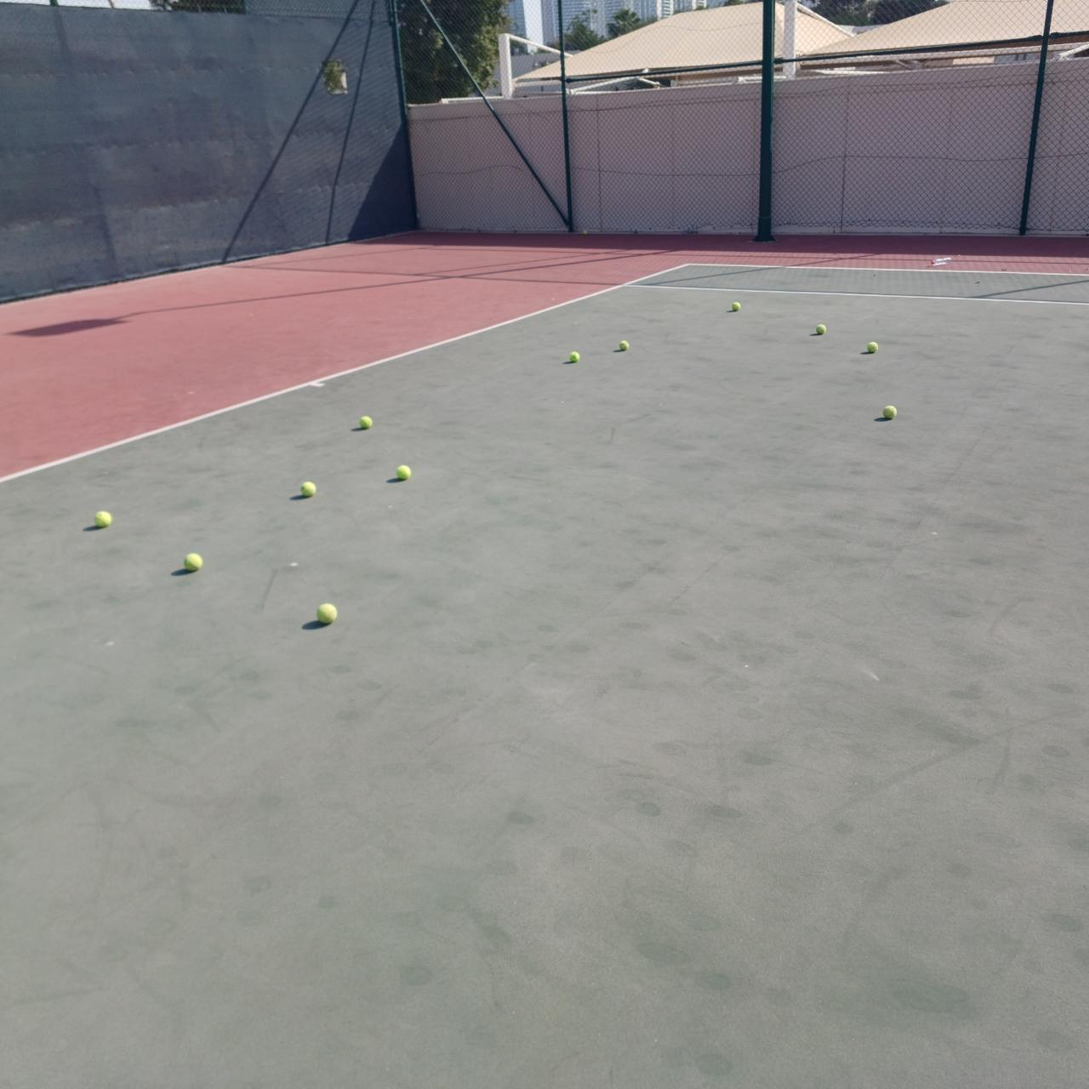tennis-ball: (315, 601, 337, 624), (182, 550, 202, 571), (92, 508, 111, 527), (299, 478, 316, 497), (395, 463, 411, 480), (881, 403, 897, 419), (358, 413, 373, 428), (864, 339, 877, 354), (812, 322, 826, 335), (727, 299, 740, 312), (616, 339, 629, 351), (566, 350, 579, 362)
